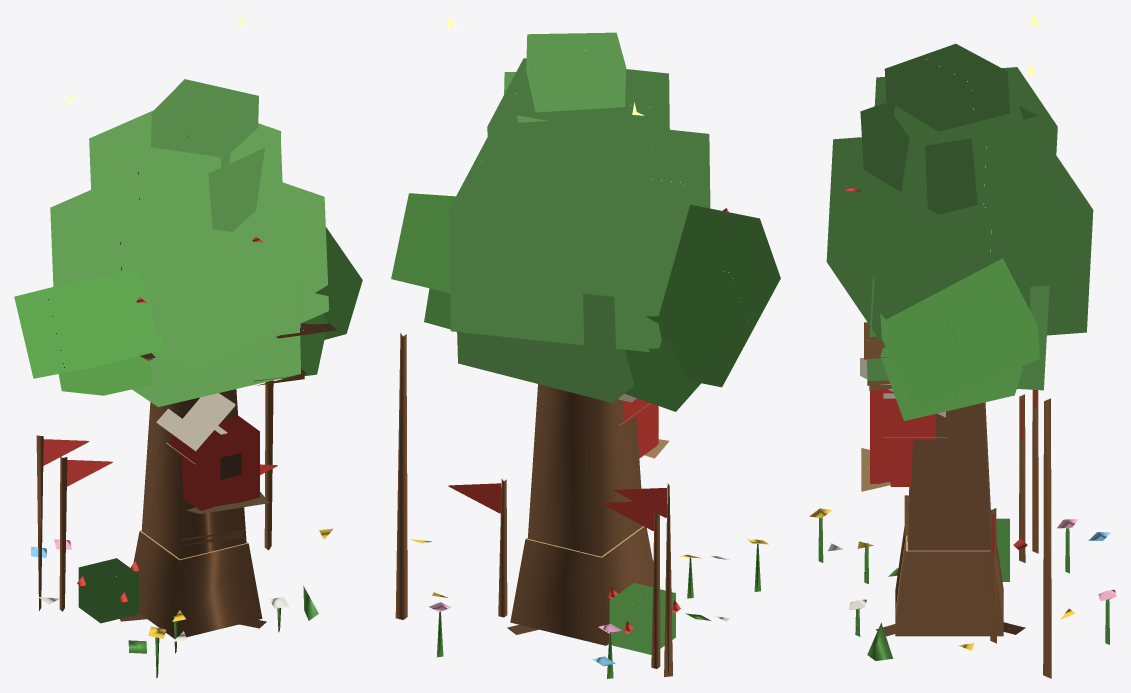
File: robin-nest-grove-blocky_lod2.glb
3 views of the same model, side by side, from view 1: azimuth 30°, elevation 25°; view 2: azimuth 150°, elevation 25°; view 3: azimuth 270°, elevation 25° (orthographic). The views are drawn at different scales.
Visible parts, largest first — view 1: lv3, lv1, lv2; view 2: lv3, lv1, lv2; view 3: lv3, lv1, lv2.
Part boxes in pixels (x1=…): lv3: x1=14, y1=14, x2=362, y2=678; lv1: x1=77, y1=464, x2=318, y2=653; lv2: x1=54, y1=277, x2=327, y2=641; lv3: x1=391, y1=14, x2=780, y2=677; lv1: x1=448, y1=478, x2=711, y2=654; lv2: x1=424, y1=288, x2=728, y2=678; lv3: x1=809, y1=14, x2=1116, y2=678; lv1: x1=848, y1=495, x2=1027, y2=660; lv2: x1=828, y1=276, x2=1078, y2=619.
Size of the model in its own units: 1.49 by 2.7 by 1.26.
